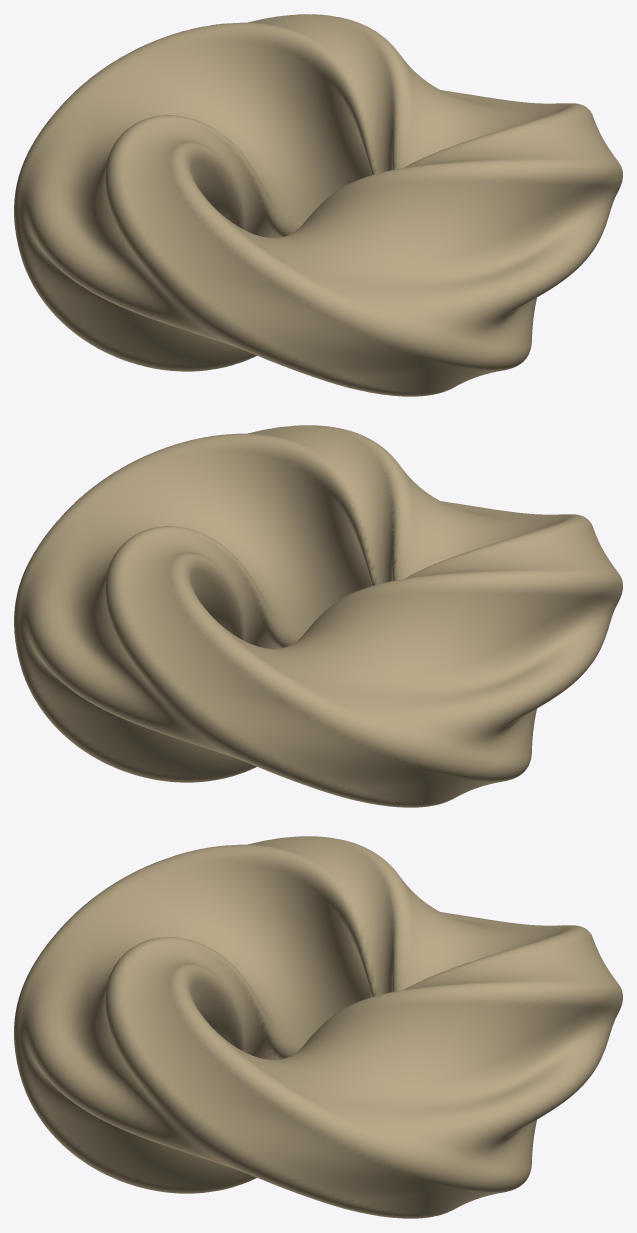
The model's file is output_sculpture.glb.
3 views of the same model, one above another, from view 1: azimuth 30°, elevation 25°; view 2: azimuth 150°, elevation 25°; view 3: azimuth 270°, elevation 25° (orthographic).
Visible parts, largest first — view 1: output_sculpture; view 2: output_sculpture; view 3: output_sculpture.
Part boxes in pixels (<box>): output_sculpture: <box>14,14,622,396</box>; output_sculpture: <box>14,425,622,807</box>; output_sculpture: <box>14,836,622,1218</box>.
Bounding box in the file's own units: 2.29 × 0.8811 × 2.35.
